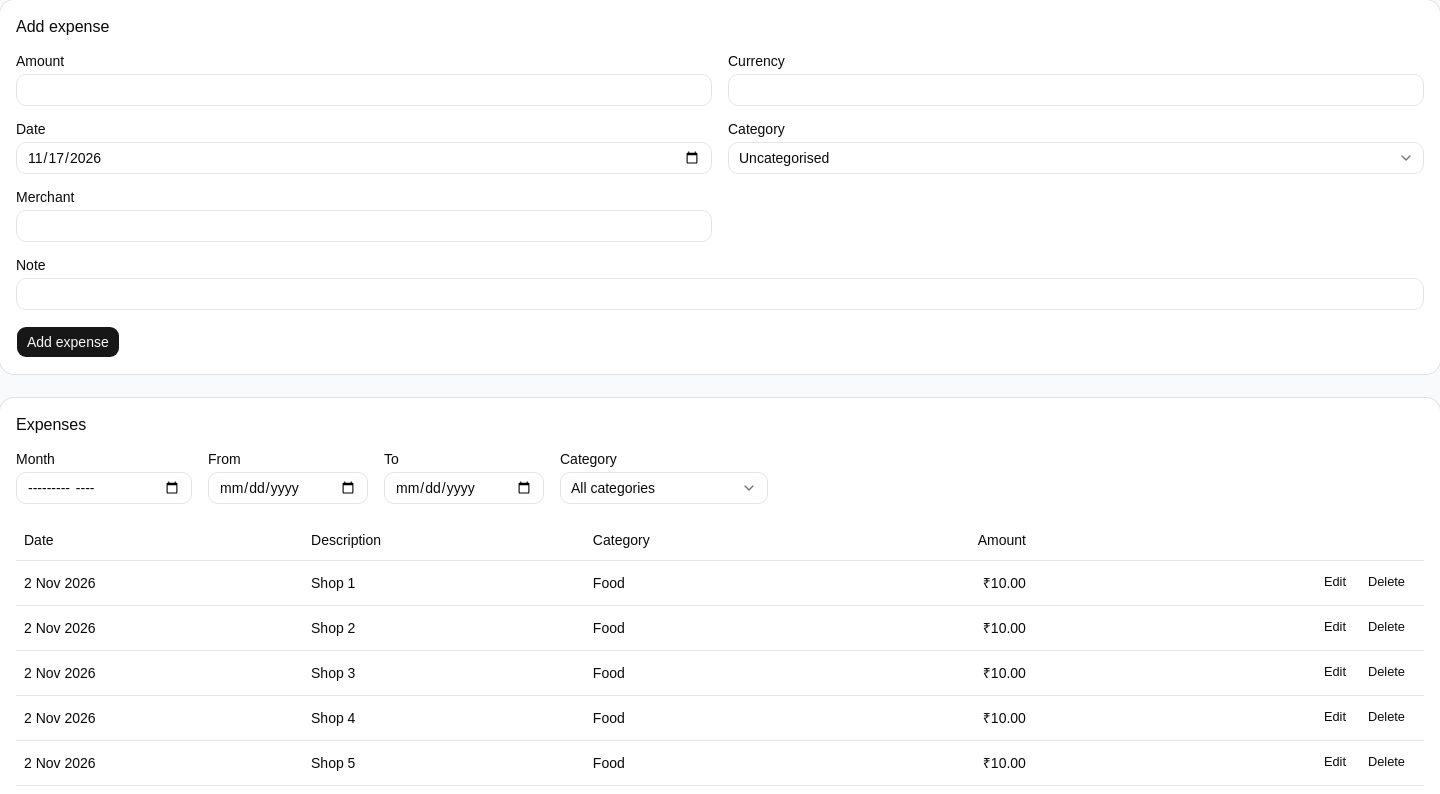
three or more categories are summarised as a count
This screenshot has width=1440, height=794.
Expected: the text "Shop 1" is shown, left=303, top=560, right=585, bottom=605
Click the button with id "filter-category" at (664, 488), box left=560, top=472, right=768, bottom=504
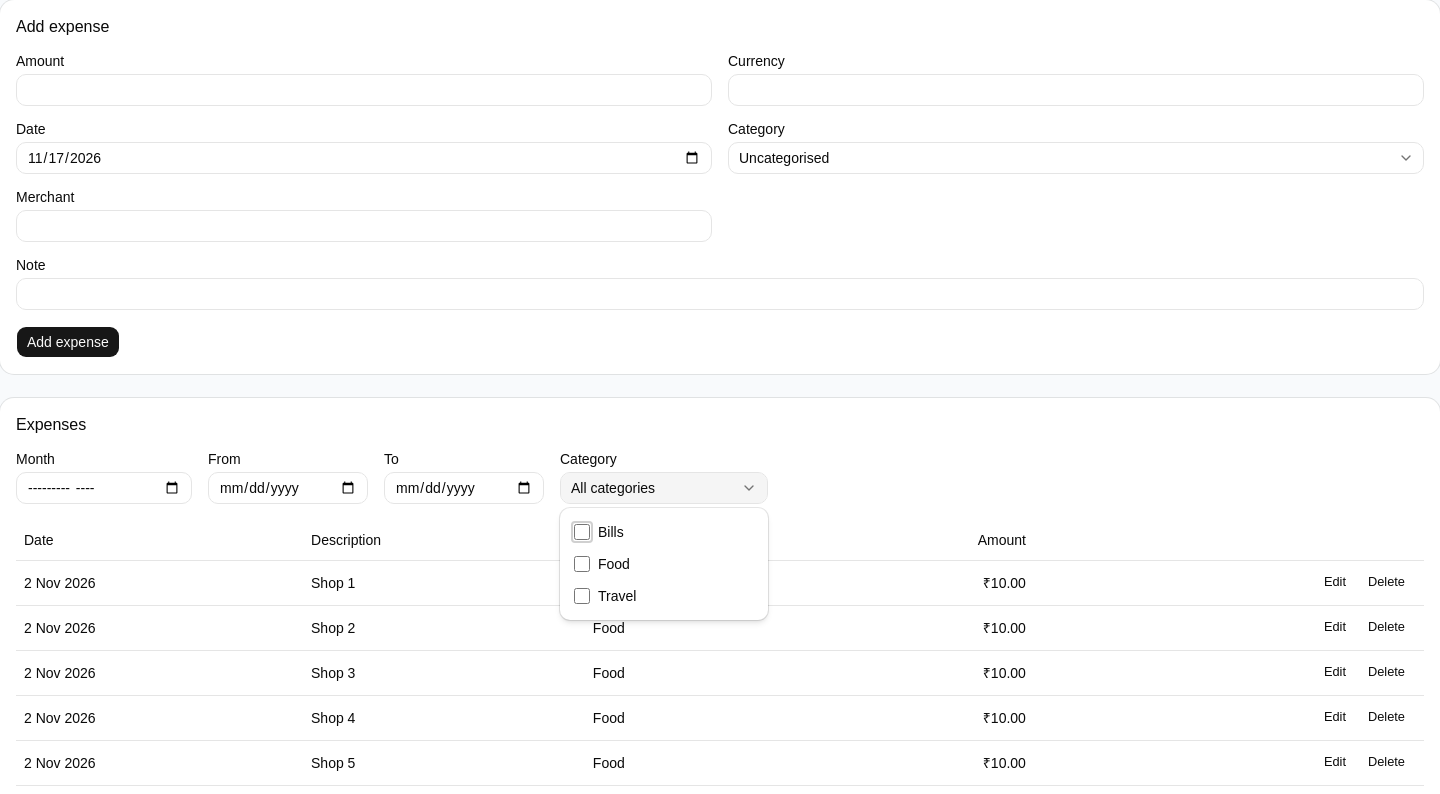
Click the checkbox labelled "Bills" at (582, 532), box left=574, top=524, right=590, bottom=540
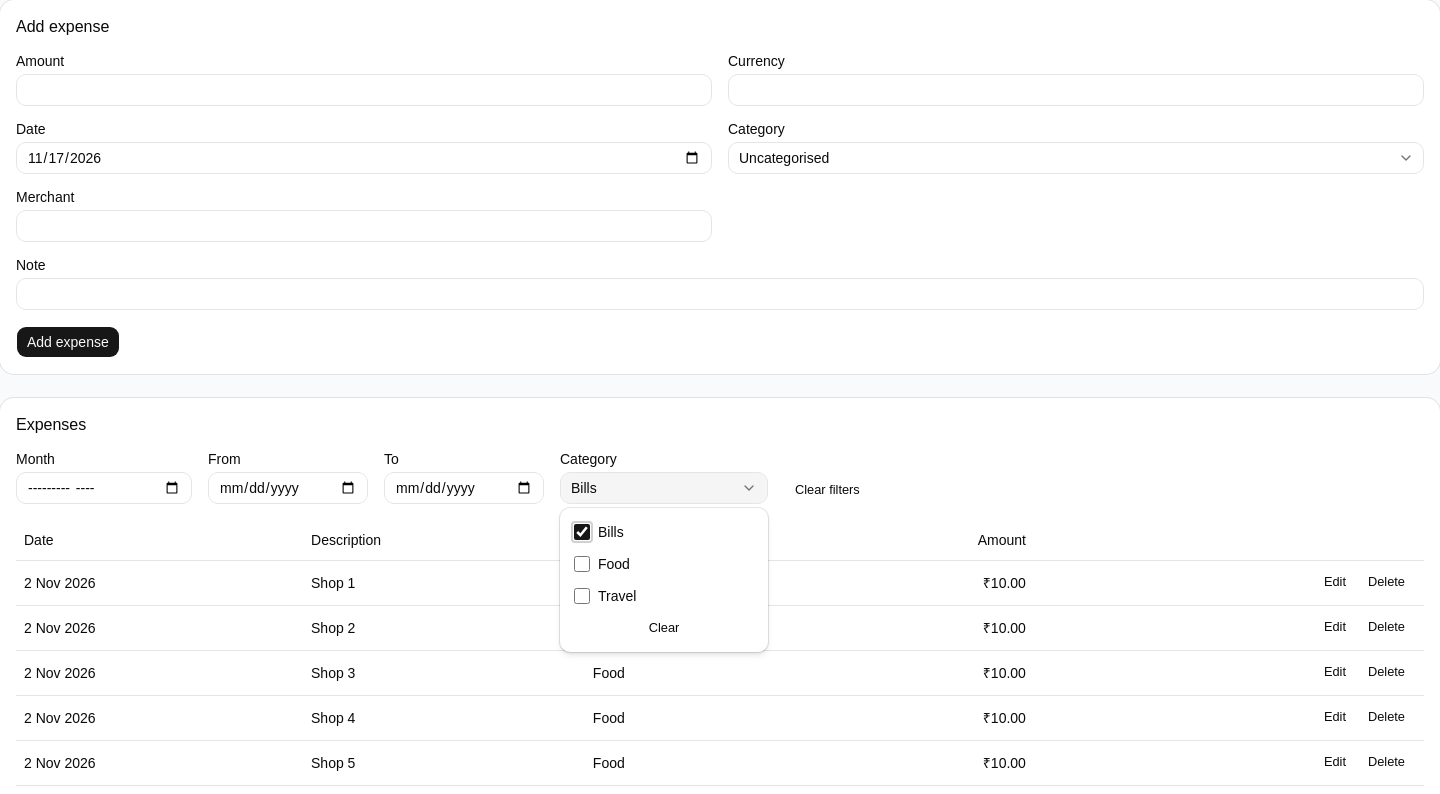
Click the checkbox labelled "Food" at (582, 564), box left=574, top=556, right=590, bottom=572
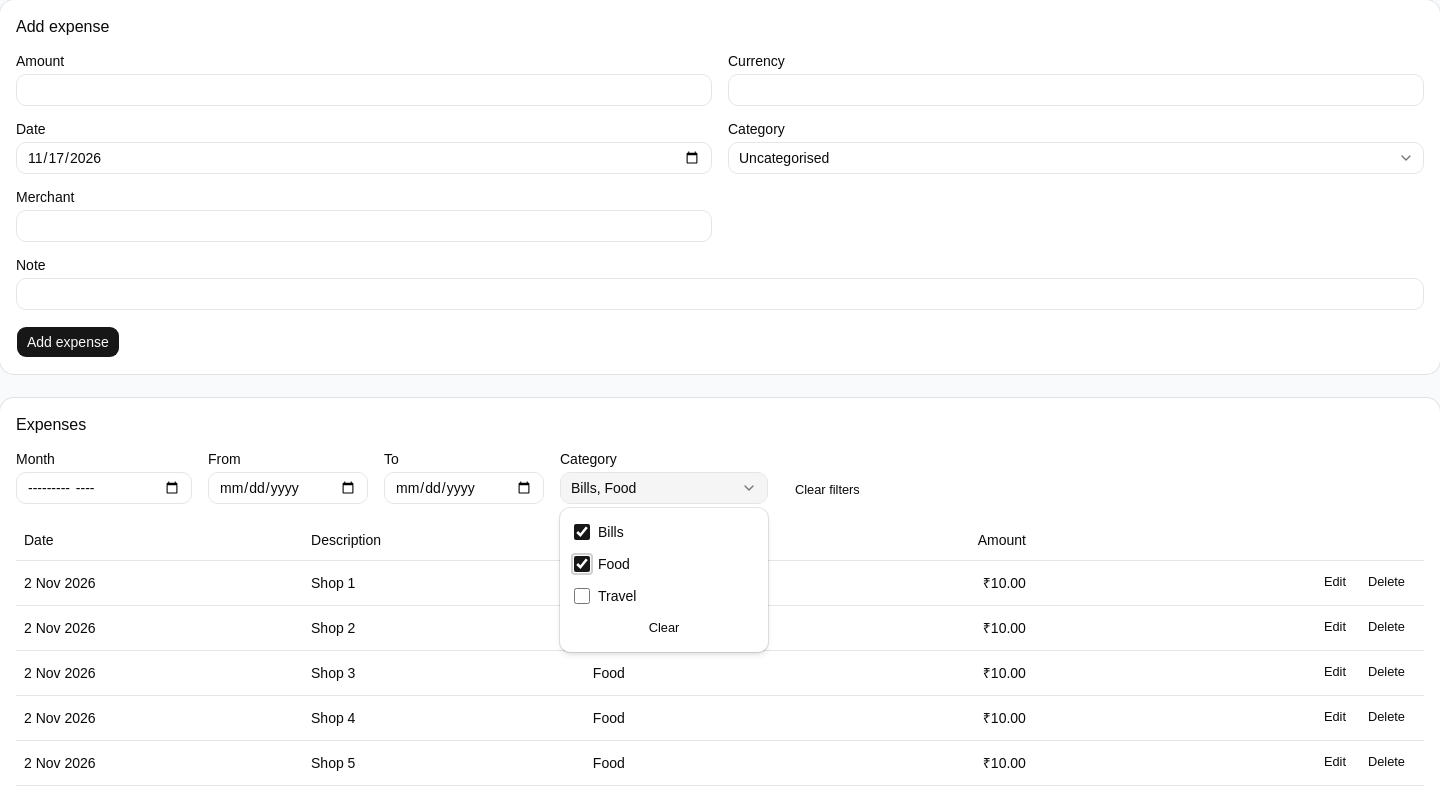
Click the checkbox labelled "Travel" at (582, 596), box left=574, top=588, right=590, bottom=604
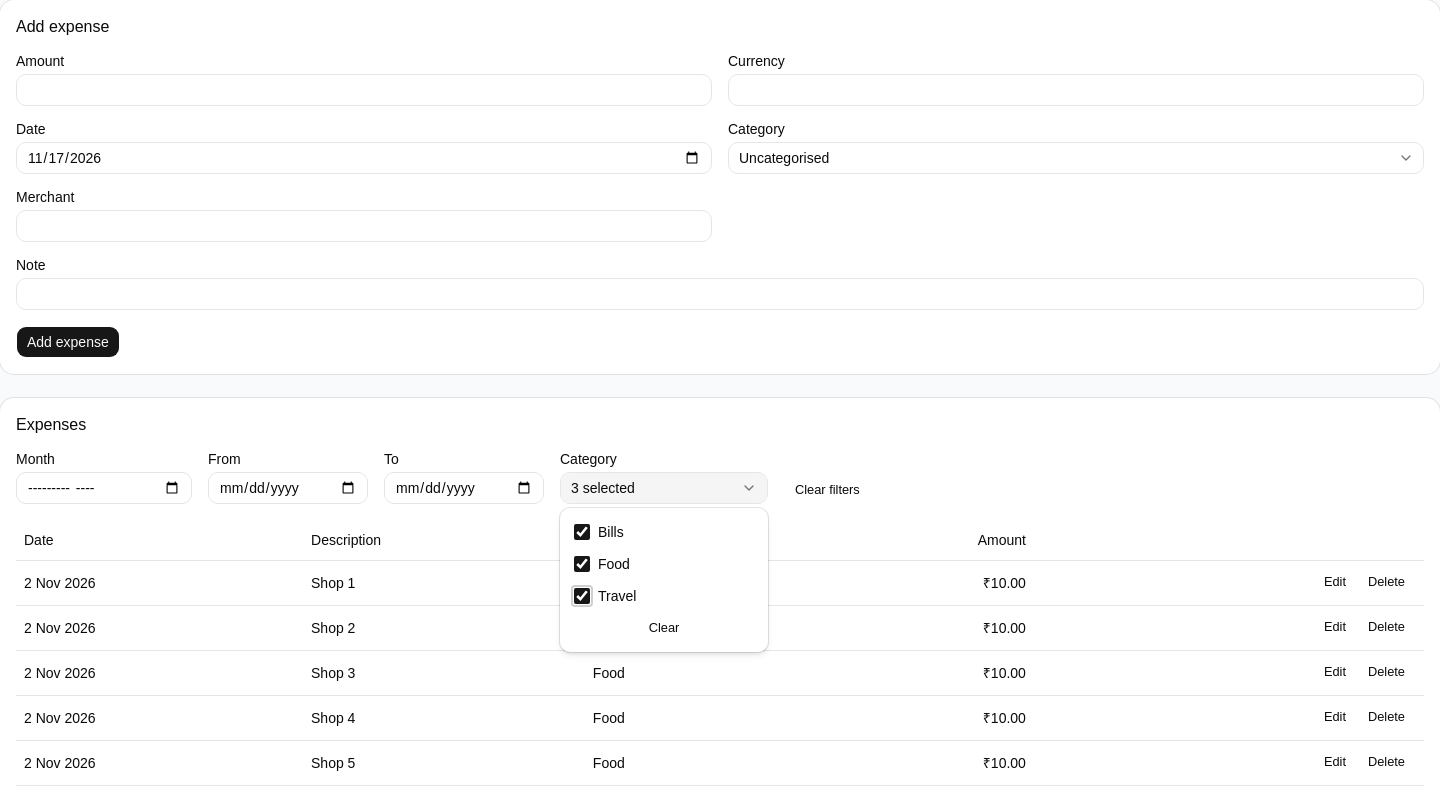
Expected: the button with id "filter-category" reads "3 selected", left=560, top=472, right=768, bottom=504
